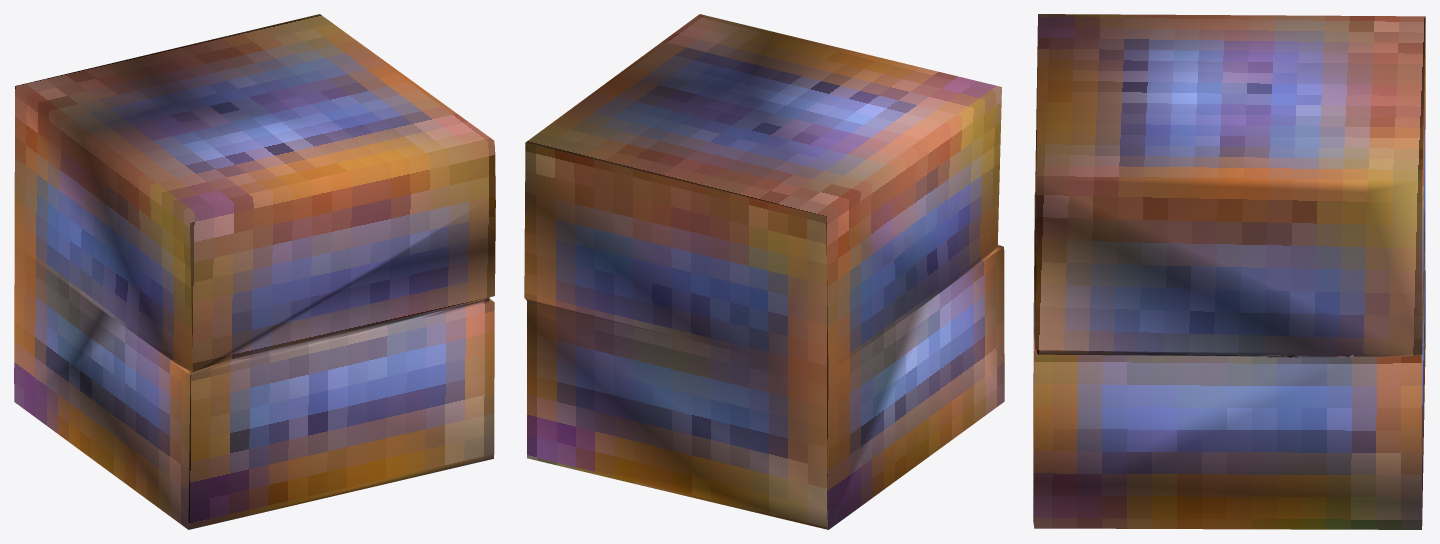
Rendered from Mad_Gab_Refresh_Card_Game-low.glb.
3 renders of one model, left to right at view 1: azimuth 30°, elevation 25°; view 2: azimuth 150°, elevation 25°; view 3: azimuth 270°, elevation 25°, orthographic. The views are drawn at different scales.
Visible parts, largest first — view 1: Mad_Gab_Refresh_Card_Game; view 2: Mad_Gab_Refresh_Card_Game; view 3: Mad_Gab_Refresh_Card_Game.
Boxes of the visible parts, left/top/right/bottom form: Mad_Gab_Refresh_Card_Game: left=14, top=14, right=495, bottom=529; Mad_Gab_Refresh_Card_Game: left=524, top=14, right=1004, bottom=529; Mad_Gab_Refresh_Card_Game: left=1033, top=14, right=1425, bottom=529.
Bounding box in the file's own units: 0.1545 × 0.1531 × 0.1543.
Materials: 1 (1 with a texture image).
